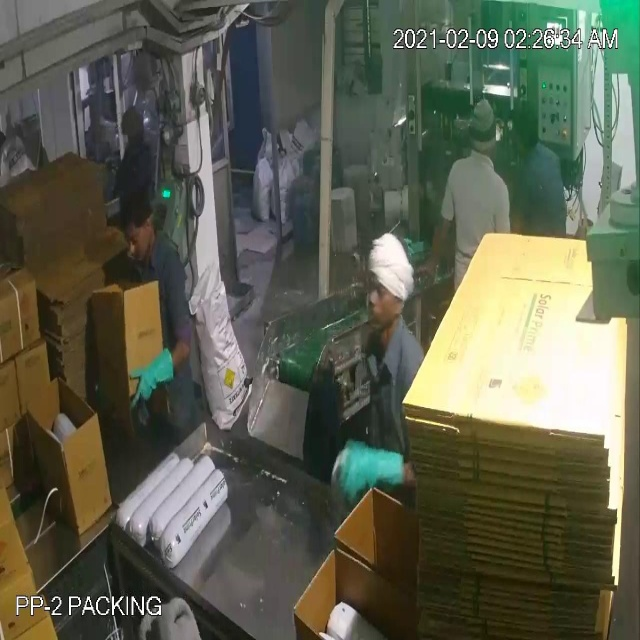Guantes: (329, 424, 417, 515), (125, 344, 185, 415)
Sin_guantes: (414, 203, 452, 295)
